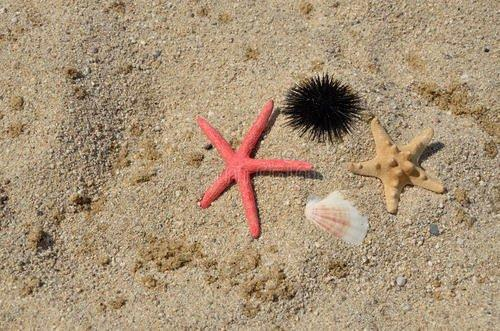urchin: (279, 69, 368, 146)
